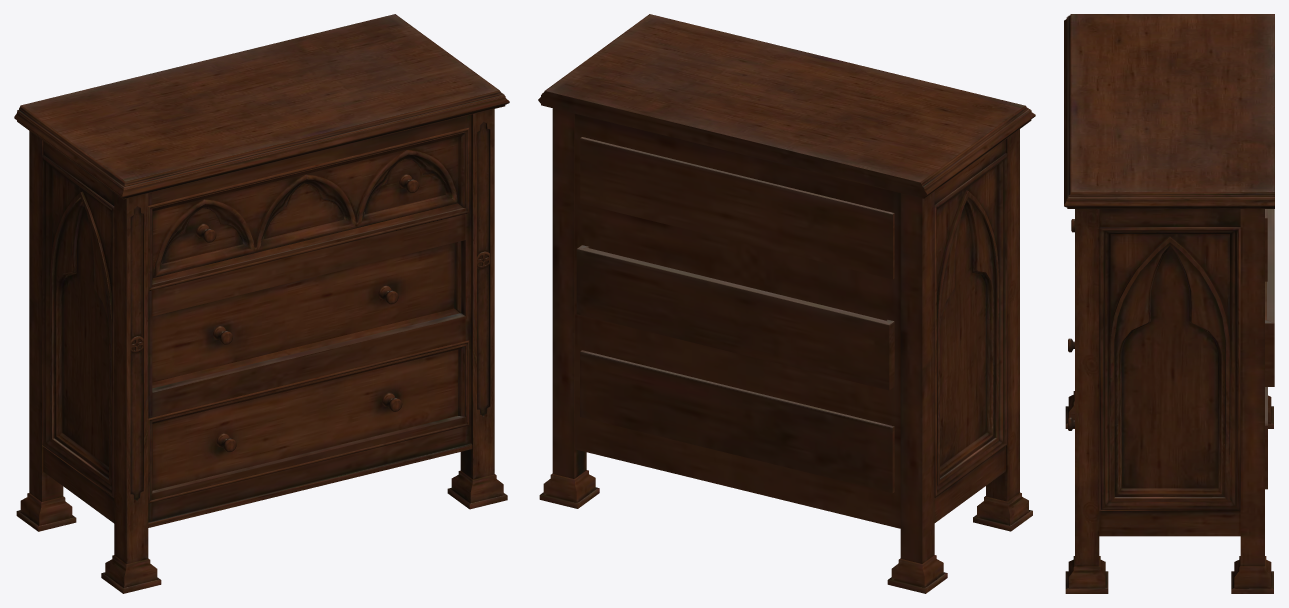
The model's file is gothiccommode_01.glb.
3 views of the same model, side by side, from view 1: azimuth 30°, elevation 25°; view 2: azimuth 150°, elevation 25°; view 3: azimuth 270°, elevation 25° (orthographic). The views are drawn at different scales.
Visible parts, largest first — view 1: GothicCommode_01; view 2: GothicCommode_01; view 3: GothicCommode_01.
Part boxes in pixels (bbox=[...]): GothicCommode_01: bbox=[14, 14, 509, 593]; GothicCommode_01: bbox=[538, 14, 1035, 593]; GothicCommode_01: bbox=[1064, 14, 1274, 593].
Size of the model in its own units: 1.2 by 1.21 by 0.5806.
Materials: 1 (1 with a texture image).
